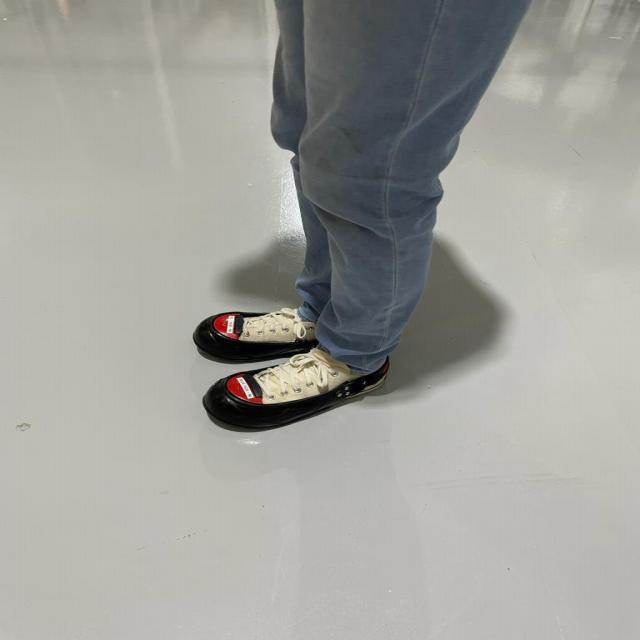shoes: (202, 354, 383, 439), (184, 302, 330, 370)
